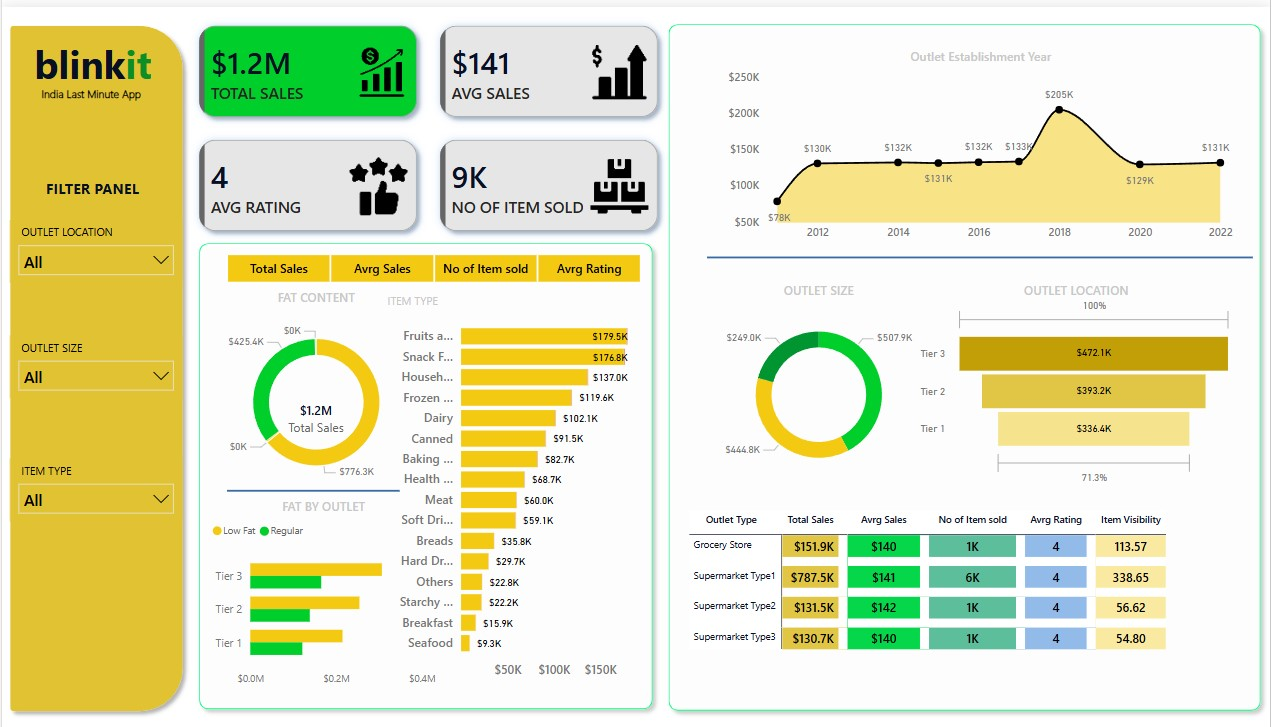

The page's visual inventory and layout, read from the dashboard file:
{"tool":"powerbi","page":{"name":"Page 1","canvas":[1400,800],"ordinal":0},"visuals":[{"type":"shape","box":[0,11.6,208.7,775.1],"z":0},{"type":"textbox","box":[24.8,28.2,150.7,67.9],"z":1000},{"type":"textbox","box":[18.2,79.5,160.6,34.8],"z":2000},{"type":"cardVisual","fields":{"Data":["Measures Group (2).Total Sales","Measures Group (2).Avrg Sales","Measures Group (2).Avrg Rating","Measures Group (2).No of Item sold"]},"box":[200.2,3.5,541.3,261.1],"z":3000},{"type":"shape","box":[208.9,252.4,518.7,532.6],"z":4000},{"type":"donutChart","title":"FAT CONTENT","fields":{"Y":["Measures Group (2).Total Sales","Measures Group (2).Avrg Sales","Measures Group (2).No of Item sold","Measures Group (2).Avrg Rating"],"Category":["BlinkIT Grocery Data.Item Fat Content"]},"box":[223.6,311.4,246.8,231.9],"z":5000},{"type":"slicer","fields":{"Values":["Metrics.Metrics"]},"box":[222.8,266.3,504.8,43.5],"z":6000},{"type":"cardVisual","fields":{"Data":["Measures Group (2).Total Sales"]},"box":[292.4,419.5,107.9,64.4],"z":7000},{"type":"clusteredBarChart","title":"FAT BY OUTLET","fields":{"Y":["Measures Group (2).Total Sales"],"Category":["BlinkIT Grocery Data.Outlet Location Type"],"Series":["BlinkIT Grocery Data.Item Fat Content"]},"box":[226.9,541.6,256.7,217],"z":8000},{"type":"shape","box":[248.4,505.1,190.5,58],"z":9000},{"type":"barChart","title":"ITEM TYPE","fields":{"Y":["Measures Group (2).Total Sales","Measures Group (2).Avrg Sales","Measures Group (2).No of Item sold","Measures Group (2).Avrg Rating"],"Category":["BlinkIT Grocery Data.Item Type"]},"box":[438.6,316.8,275,435.1],"z":10000},{"type":"shape","box":[727.6,10.4,671.9,776.3],"z":11000},{"type":"lineChart","title":"Outlet Establishment Year","fields":{"Category":["BlinkIT Grocery Data.Outlet Establishment Year"],"Y":["Measures Group (2).Total Sales"]},"box":[795.9,44.1,568.2,222.4],"z":12000},{"type":"shape","box":[778.4,125.9,602.8,301.4],"z":13000},{"type":"donutChart","title":"OUTLET SIZE","fields":{"Y":["Measures Group (2).Total Sales"],"Category":["BlinkIT Grocery Data.Outlet Size"]},"box":[778.4,303.1,246.8,231.9],"z":14000},{"type":"funnel","title":" OUTLET LOCATION","fields":{"Category":["BlinkIT Grocery Data.Outlet Location Type"],"Y":["Measures Group (2).Total Sales"]},"box":[1007.8,302.9,355.1,229.8],"z":15000},{"type":"pivotTable","fields":{"Values":["Measures Group (2).Total Sales","Measures Group (2).Avrg Sales","Measures Group (2).No of Item sold","Measures Group (2).Avrg Rating","Sum(BlinkIT Grocery Data.Item Visibility)"],"Rows":["BlinkIT Grocery Data.Outlet Type"]},"box":[753.7,550,619.6,208.9],"z":16000},{"type":"slicer","fields":{"Values":["BlinkIT Grocery Data.Outlet Location Type"]},"box":[8.7,234.7,191.5,69.6],"z":17000},{"type":"slicer","fields":{"Values":["BlinkIT Grocery Data.Outlet Size"]},"box":[8.7,363.5,191.5,69.6],"z":18000},{"type":"slicer","fields":{"Values":["BlinkIT Grocery Data.Item Type"]},"box":[8.7,499.3,191.5,69.6],"z":19000},{"type":"textbox","box":[34.8,184.5,130.5,34.8],"z":20000}]}

Visuals, with their boxes in screenshot pixels (x1, y1, x2, y2), scaled from the page's 1400x800 canvas onto the 1275x727 screenshot:
shape: region(0, 11, 190, 715)
textbox: region(23, 26, 160, 87)
textbox: region(17, 72, 163, 104)
cardVisual - Measures Group (2).Total Sales x Measures Group (2).Avrg Sales: region(182, 3, 675, 240)
shape: region(190, 229, 663, 713)
"FAT CONTENT" donutChart: region(204, 283, 428, 494)
slicer - Metrics.Metrics: region(203, 242, 663, 282)
cardVisual - Measures Group (2).Total Sales: region(266, 381, 365, 440)
"FAT BY OUTLET" clusteredBarChart: region(207, 492, 440, 689)
shape: region(226, 459, 400, 512)
"ITEM TYPE" barChart: region(399, 288, 650, 683)
shape: region(663, 9, 1274, 715)
"Outlet Establishment Year" lineChart: region(725, 40, 1242, 242)
shape: region(709, 114, 1258, 388)
"OUTLET SIZE" donutChart: region(709, 275, 934, 486)
" OUTLET LOCATION" funnel: region(918, 275, 1241, 484)
pivotTable - Measures Group (2).Total Sales x Measures Group (2).Avrg Sales: region(686, 500, 1251, 690)
slicer - BlinkIT Grocery Data.Outlet Location Type: region(8, 213, 182, 277)
slicer - BlinkIT Grocery Data.Outlet Size: region(8, 330, 182, 394)
slicer - BlinkIT Grocery Data.Item Type: region(8, 454, 182, 517)
textbox: region(32, 168, 151, 199)
